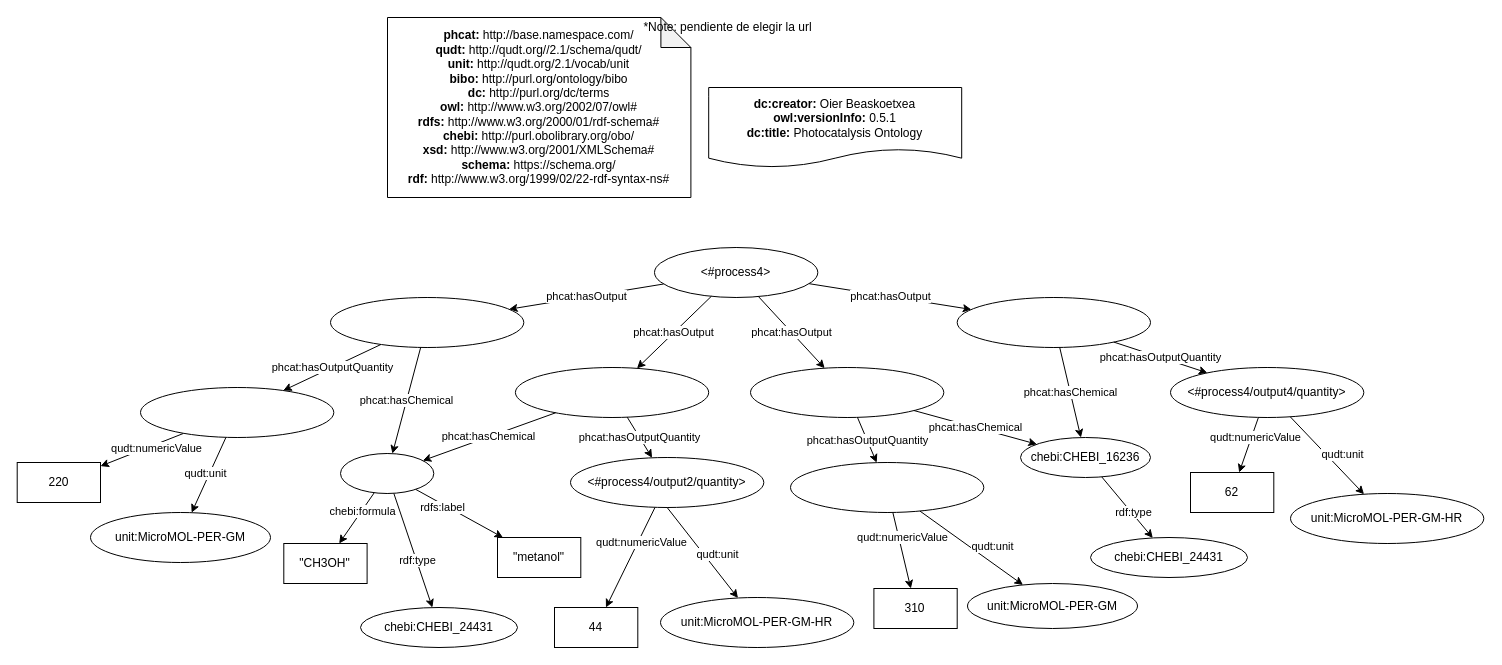
This 1502x665 diagram has some shape labels left out. The centre of each missing label's shape, as x and y in pixels:
"<#CH3OH>" belongs at point (387, 473).
"<#process4/output1/quantity>" belongs at point (237, 412).
"<#process4/output1>" belongs at point (427, 322).
"<#process4/output2>" belongs at point (611, 392).
"<#process4/output3/quantity>" belongs at point (887, 487).
"<#process4/output3>" belongs at point (847, 392).
"<#process4/output4>" belongs at point (1053, 322).
